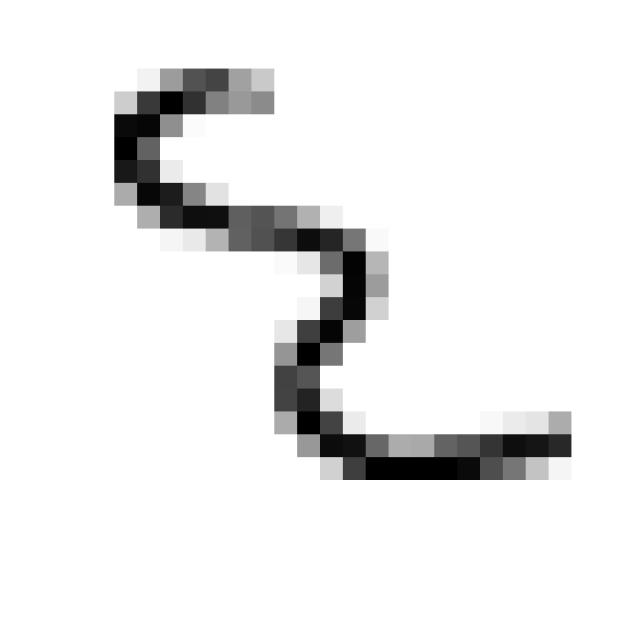4 -four-: (94, 54, 588, 502)
